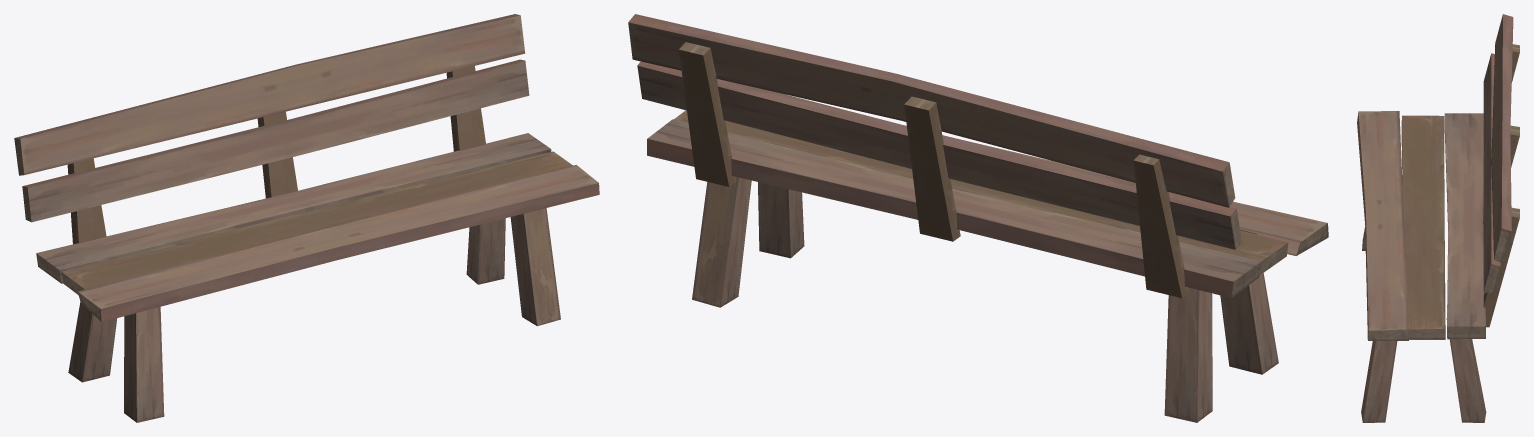
File: Homeworld_Exterior_Md_Chair_Chair_01_Vo.fbx
3 views of the same model, side by side, from view 1: azimuth 30°, elevation 25°; view 2: azimuth 150°, elevation 25°; view 3: azimuth 270°, elevation 25° (orthographic). The views are drawn at different scales.
Visible parts, largest first — view 1: Area_MdProps_Chair_A_02_Vo; view 2: Area_MdProps_Chair_A_02_Vo; view 3: Area_MdProps_Chair_A_02_Vo.
Part boxes in pixels (bbox=[...]): Area_MdProps_Chair_A_02_Vo: bbox=[14, 14, 599, 422]; Area_MdProps_Chair_A_02_Vo: bbox=[628, 14, 1328, 422]; Area_MdProps_Chair_A_02_Vo: bbox=[1357, 14, 1519, 422].
Bounding box in the file's own units: 2.08 × 0.9528 × 0.6568.
